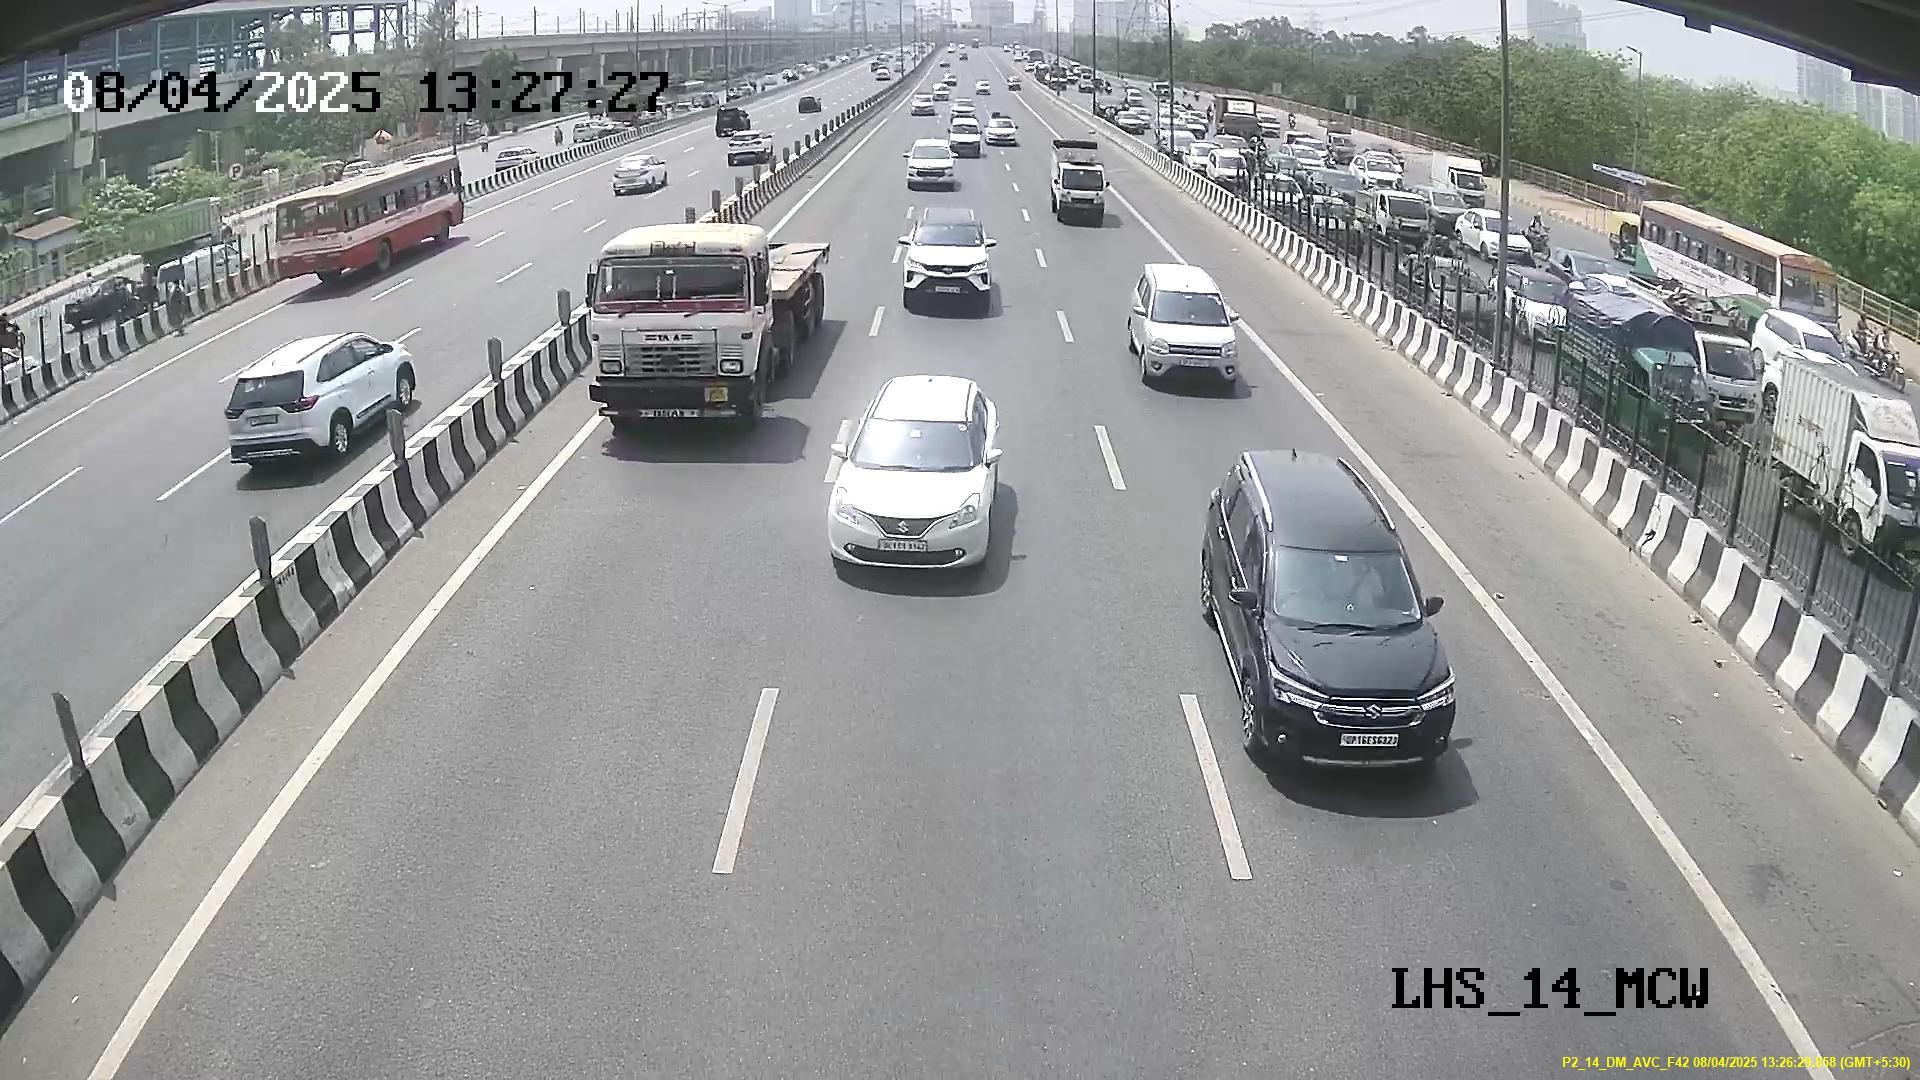car: (1226, 500, 1468, 781), (829, 400, 1000, 575), (1126, 266, 1247, 390), (898, 216, 994, 316), (1047, 153, 1108, 224), (897, 127, 959, 191)
truck: (583, 223, 800, 444)
